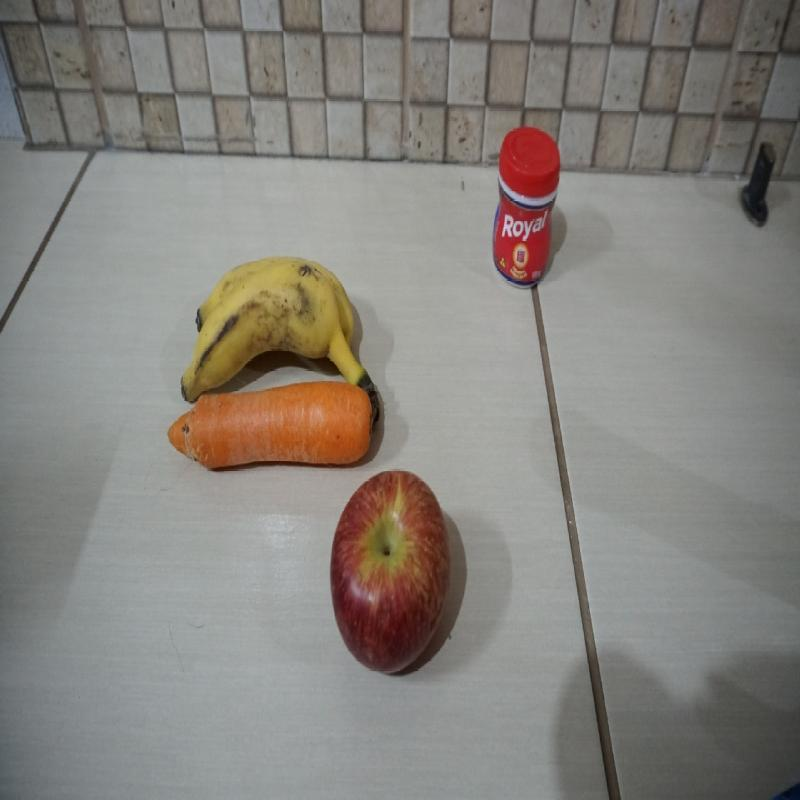Apple: (328, 473, 454, 666)
Banana: (176, 235, 376, 384)
Carrot: (166, 390, 377, 471)
Yeast: (493, 123, 559, 290)
